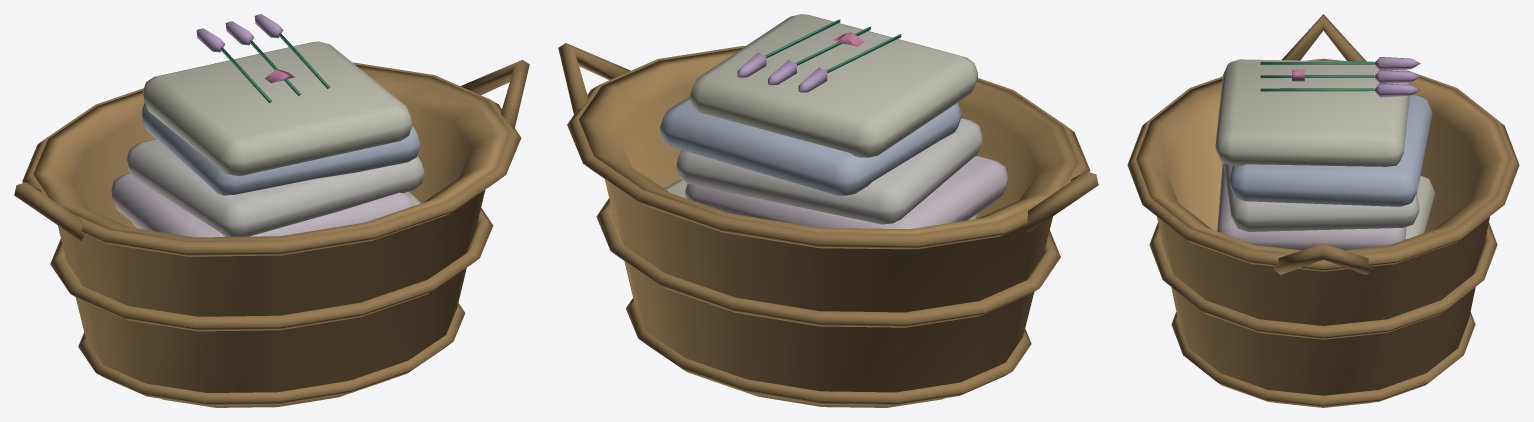
The model's file is laundry_basket.glb.
3 views of the same model, side by side, from view 1: azimuth 30°, elevation 25°; view 2: azimuth 150°, elevation 25°; view 3: azimuth 270°, elevation 25° (orthographic). The views are drawn at different scales.
Visible parts, largest first — view 1: laundry_basket; view 2: laundry_basket; view 3: laundry_basket.
Part boxes in pixels (<box>): laundry_basket: <box>14,14,529,407</box>; laundry_basket: <box>558,14,1098,407</box>; laundry_basket: <box>1127,14,1519,407</box>.
Size of what is drawn, in the model's own units: 0.887 by 0.481 by 0.624.
